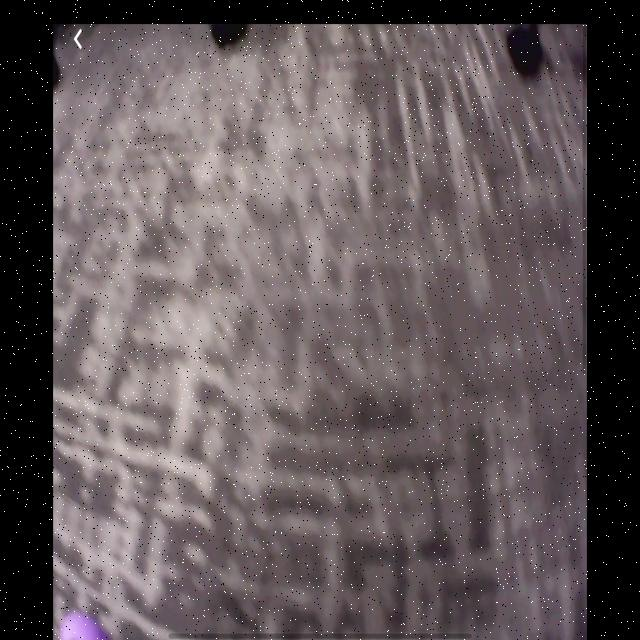ball: (58, 610, 108, 638)
